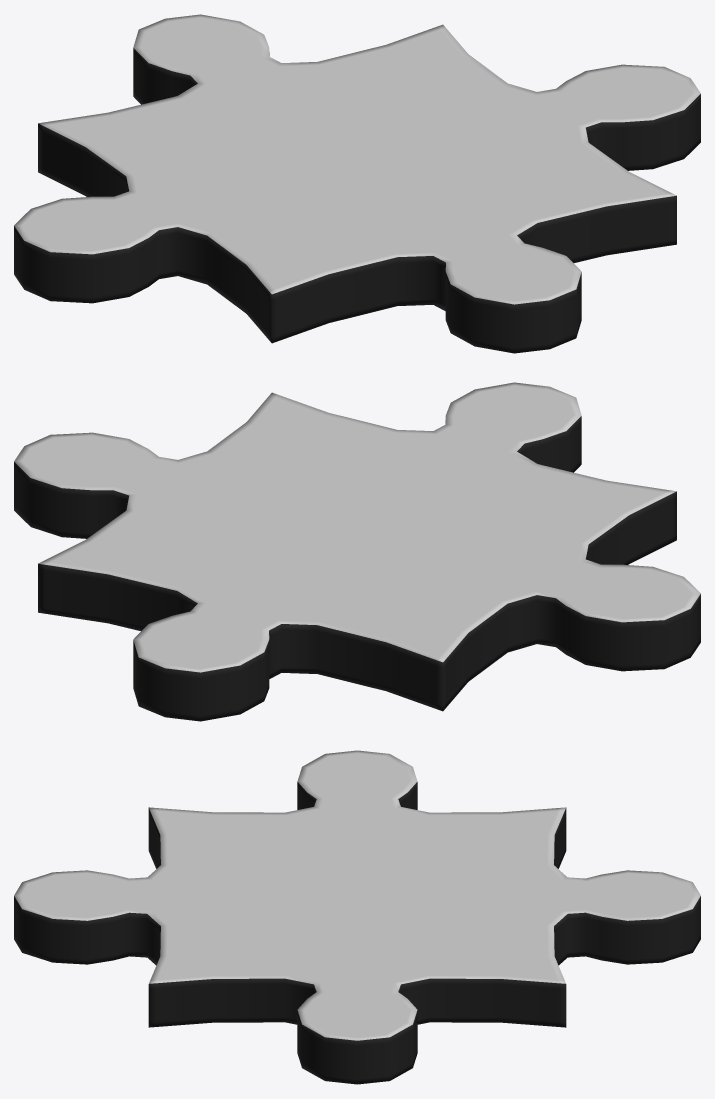
Rendered from puzzle17.fbx.
The picture shows the model from 3 angles, top to bottom: view 1: azimuth 30°, elevation 25°; view 2: azimuth 150°, elevation 25°; view 3: azimuth 270°, elevation 25°; orthographic projection. The views are drawn at different scales.
Visible parts, largest first — view 1: puzzle17; view 2: puzzle17; view 3: puzzle17.
Part boxes in pixels (bbox=[...]): puzzle17: bbox=[14, 14, 700, 353]; puzzle17: bbox=[14, 382, 700, 721]; puzzle17: bbox=[14, 750, 700, 1084].
Bounding box in the file's own units: 4.9 × 0.344 × 4.9.
